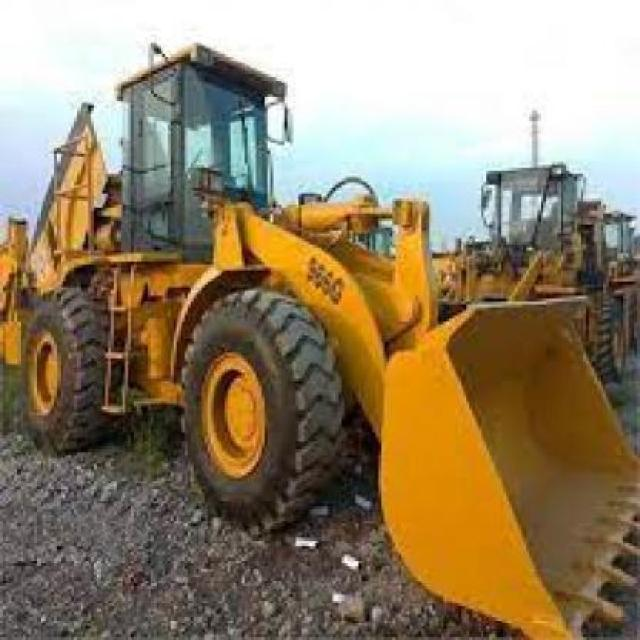buldozerpayloadergrader: (8, 51, 624, 624)
